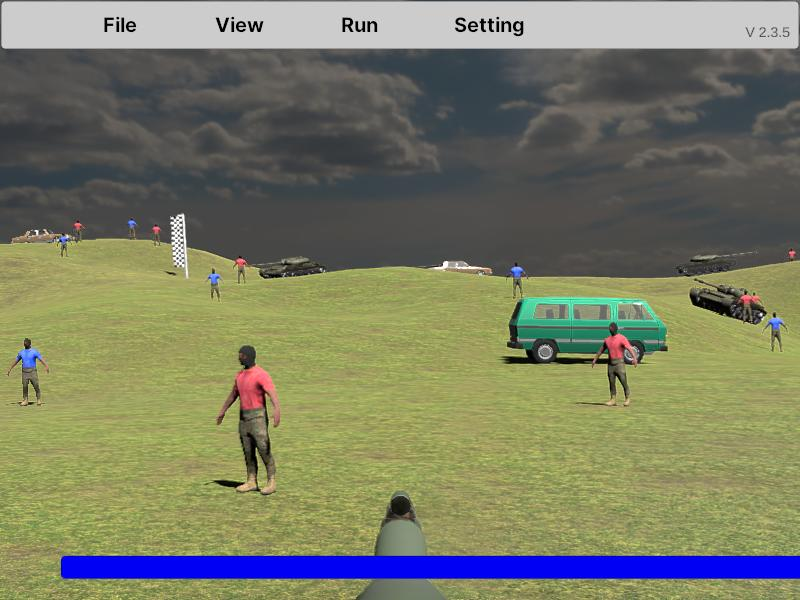Human: (216, 344, 280, 496), (593, 324, 637, 406), (8, 337, 49, 407)
Tank: (689, 280, 766, 324), (676, 249, 760, 276), (678, 249, 760, 276), (251, 257, 325, 279)
car: (508, 296, 669, 365)
